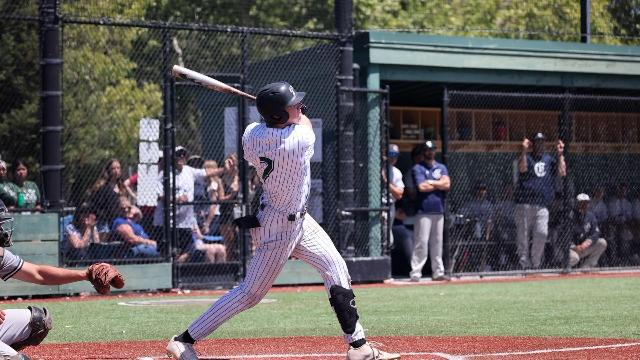bat: (170, 62, 258, 102)
